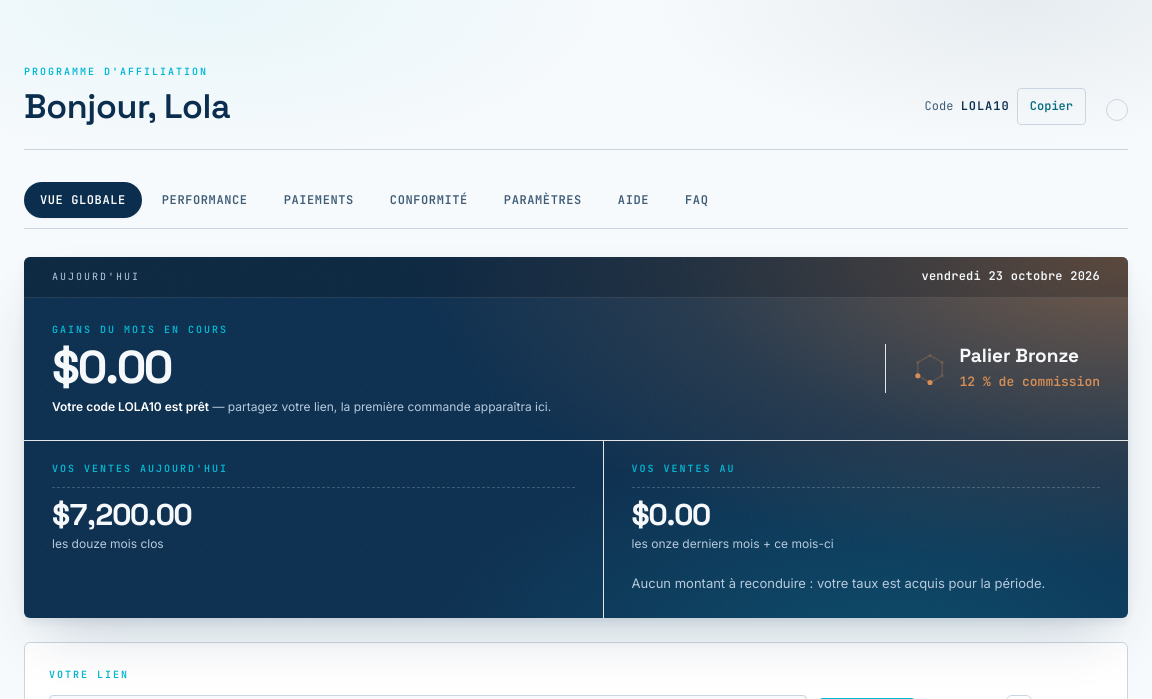
Test: le flux d'activité › et l'étiquette dit la période COUVERTE, pas le mois du virement
The image size is (1152, 699).
Click the button "Paiements" at point(319, 200), box [268,182,370,218]
(page scrolled)
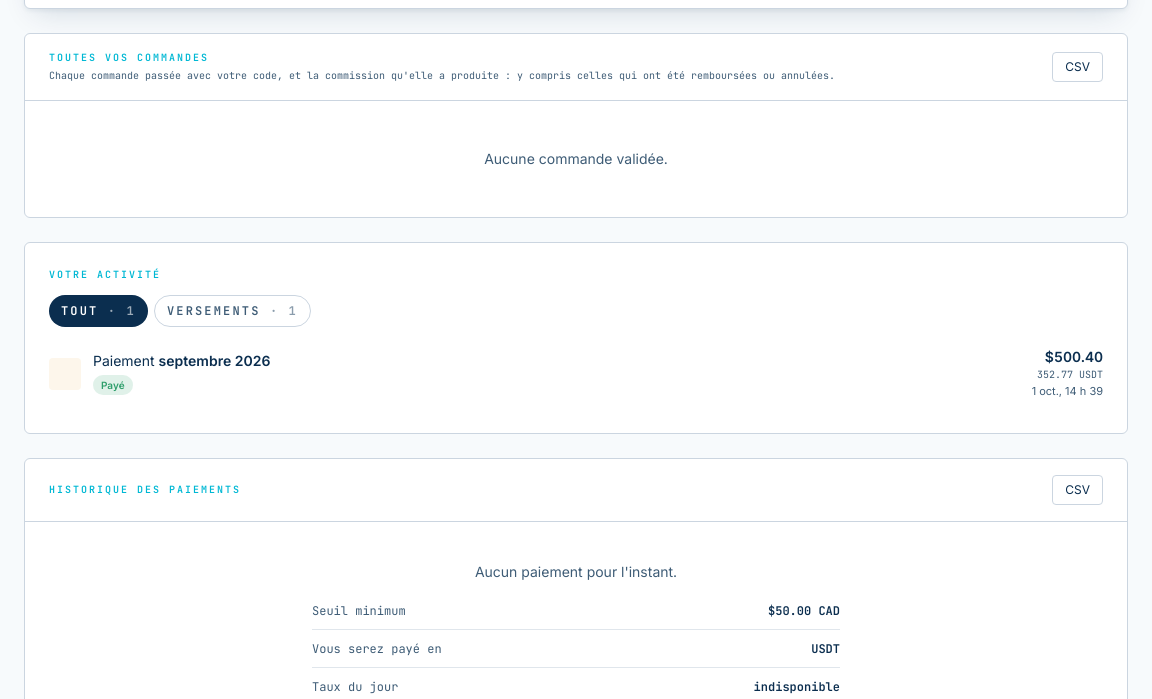
Expected: the text "$500.40" is shown, [1045,348,1103,366]
Expected: the text "septembre 2026" is shown, [159,352,270,370]
